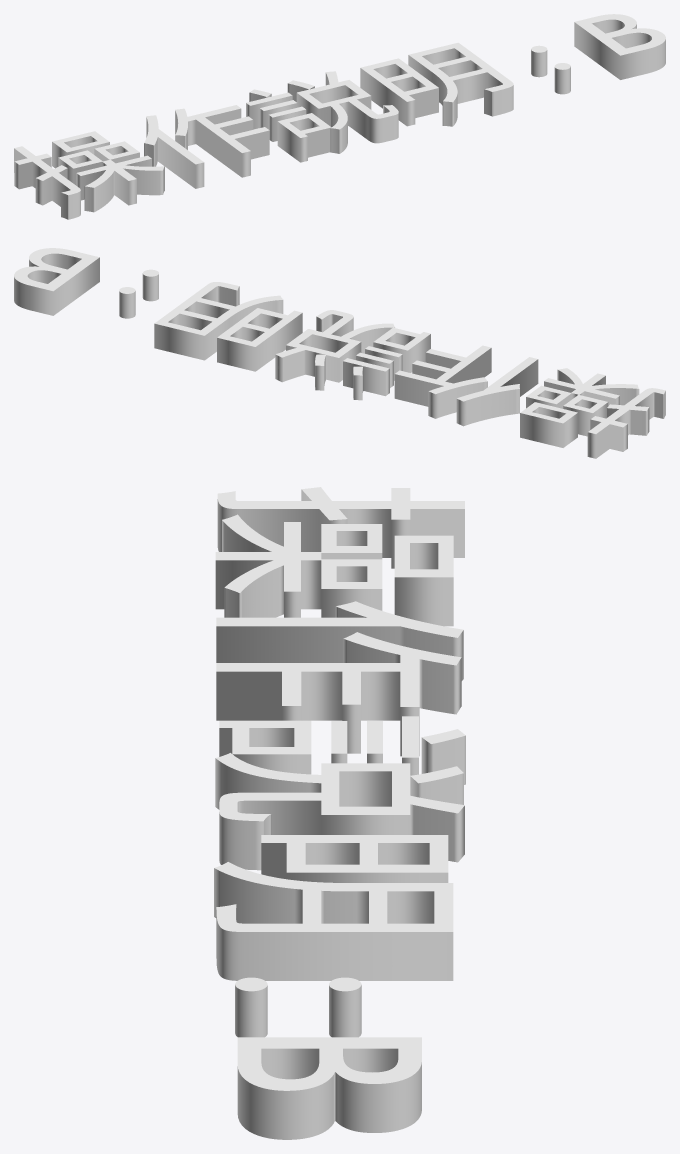
File: PressBToGuide.gltf
3 renders of one model, top to bottom at view 1: azimuth 30°, elevation 25°; view 2: azimuth 150°, elevation 25°; view 3: azimuth 270°, elevation 25°, orthographic. The views are drawn at different scales.
Visible parts, largest first — view 1: Xボタンで揺れの切り替え : ON; view 2: Xボタンで揺れの切り替え : ON; view 3: Xボタンで揺れの切り替え : ON.
Boxes of the visible parts, x1,y1,x2,y2 form: Xボタンで揺れの切り替え : ON: [14, 14, 665, 219]; Xボタンで揺れの切り替え : ON: [14, 248, 665, 458]; Xボタンで揺れの切り替え : ON: [214, 487, 465, 1139].
Bounding box in the file's own units: 5.28 × 0.2 × 0.931.
